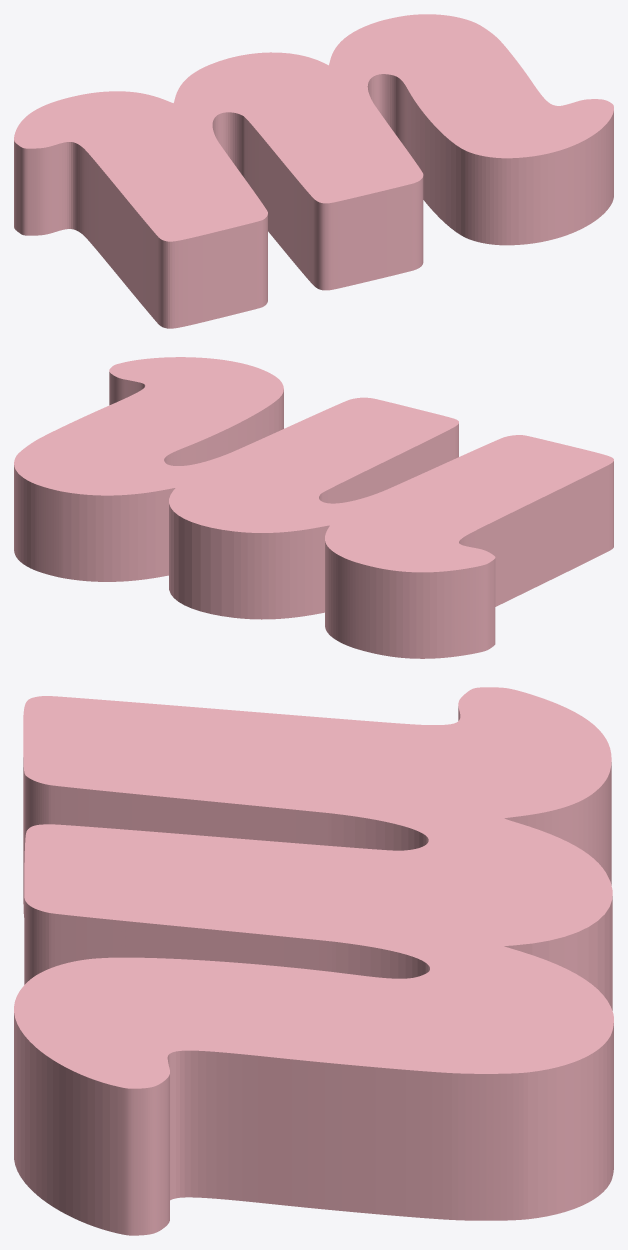
The model's file is mmpink.glb.
3 views of the same model, one above another, from view 1: azimuth 30°, elevation 25°; view 2: azimuth 150°, elevation 25°; view 3: azimuth 270°, elevation 25° (orthographic). The views are drawn at different scales.
Visible parts, largest first — view 1: Curve; view 2: Curve; view 3: Curve.
Part boxes in pixels (bbox=[...]): Curve: bbox=[14, 14, 613, 328]; Curve: bbox=[14, 357, 613, 658]; Curve: bbox=[14, 687, 613, 1235].
Size of the model in its own units: 9.32 by 1.59 by 5.89.
